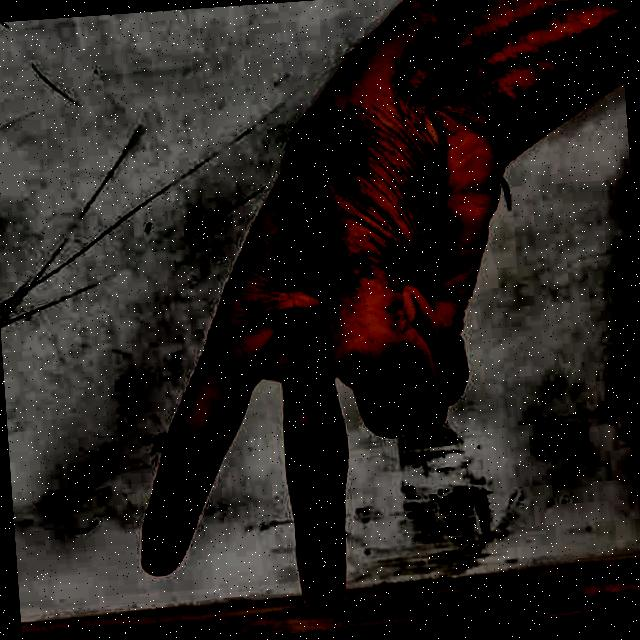Pa: (80, 41, 550, 635)
